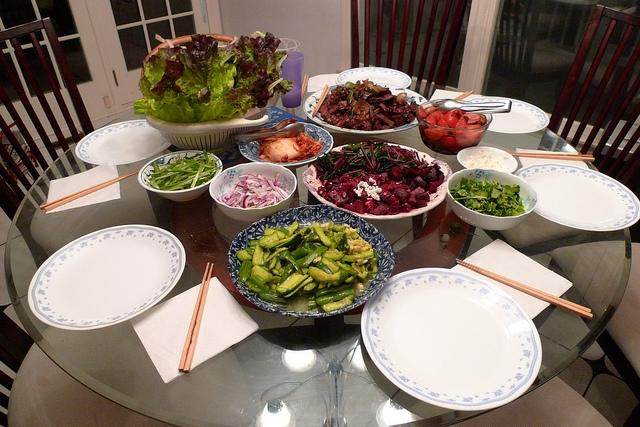lettuce: (236, 36, 268, 94), (186, 33, 218, 86), (250, 66, 290, 108), (150, 58, 186, 97), (160, 99, 194, 123), (142, 58, 166, 90), (160, 78, 187, 103), (451, 189, 488, 201), (274, 50, 289, 74), (196, 87, 211, 105), (498, 185, 518, 195), (464, 198, 480, 210), (513, 198, 523, 207), (498, 198, 507, 204)
onion: (224, 196, 240, 204), (267, 180, 277, 192), (245, 192, 258, 198), (240, 180, 255, 184), (258, 191, 268, 197), (249, 198, 263, 202), (250, 181, 257, 186)
tomato: (453, 114, 467, 134), (443, 108, 462, 122), (424, 128, 444, 140), (464, 113, 482, 125), (428, 111, 440, 125), (446, 116, 460, 128), (436, 118, 450, 128), (424, 106, 439, 115), (426, 116, 436, 124), (466, 124, 482, 128), (452, 134, 466, 138)
